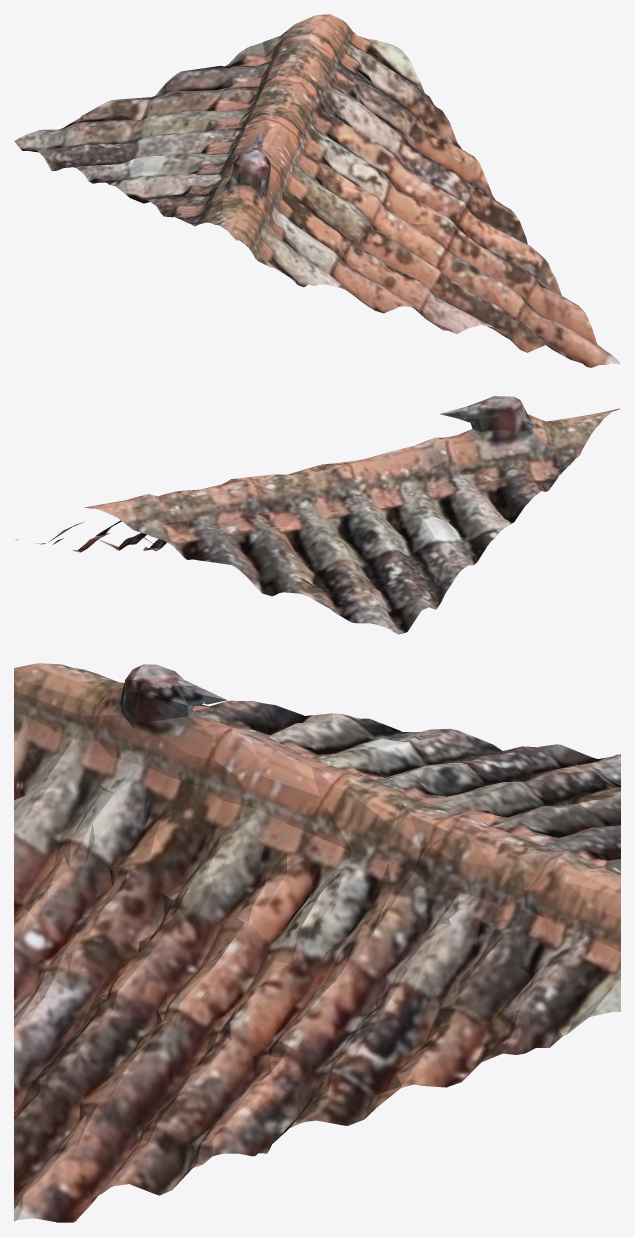
3 renders of one model, top to bottom at view 1: azimuth 30°, elevation 25°; view 2: azimuth 150°, elevation 25°; view 3: azimuth 270°, elevation 25°, orthographic. The views are drawn at different scales.
Bounding box in the file's own units: 1.67 × 1.04 × 1.67.
3 materials, 3 textured.
